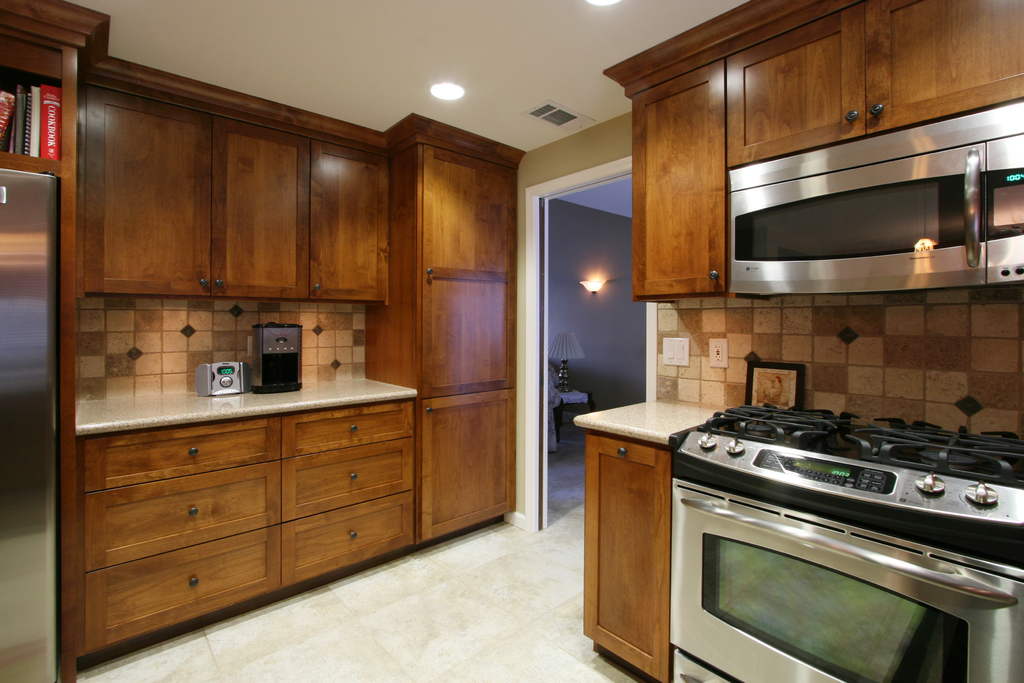cabinet door: (90, 90, 218, 296), (422, 154, 518, 395), (584, 433, 678, 669), (637, 92, 722, 301), (210, 129, 306, 302), (862, 20, 1024, 111), (87, 536, 292, 604), (310, 153, 390, 321), (728, 53, 867, 142), (422, 395, 514, 524), (87, 481, 281, 533), (279, 452, 422, 510), (281, 416, 414, 469), (276, 521, 423, 565), (95, 435, 278, 470)
handle: (685, 508, 1022, 611), (954, 157, 990, 268), (838, 100, 860, 125), (860, 102, 888, 121), (184, 443, 206, 464), (340, 524, 360, 547), (183, 566, 200, 590), (706, 264, 723, 288), (180, 501, 200, 520), (194, 272, 210, 291), (610, 443, 633, 456), (346, 469, 363, 484), (210, 279, 223, 294), (349, 422, 361, 435)
refrigerator door: (2, 175, 58, 674)
